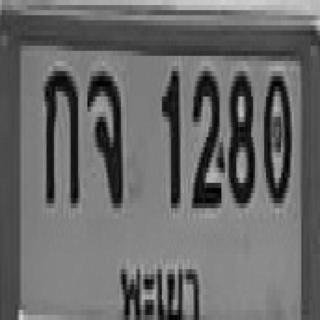A01: (43, 66, 78, 203)
A08: (86, 66, 121, 203)
N00: (262, 71, 290, 198)
N01: (160, 66, 178, 203)
N02: (190, 66, 221, 203)
N08: (227, 66, 253, 203)
P42: (115, 254, 203, 320)
